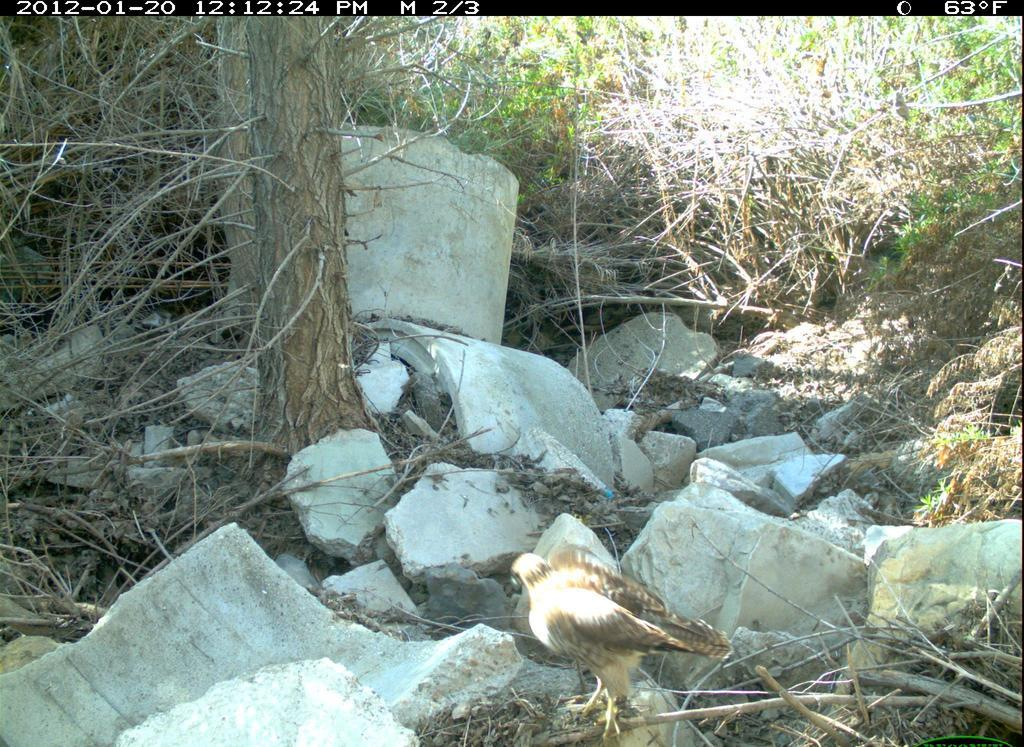bird: (504, 534, 747, 742)
